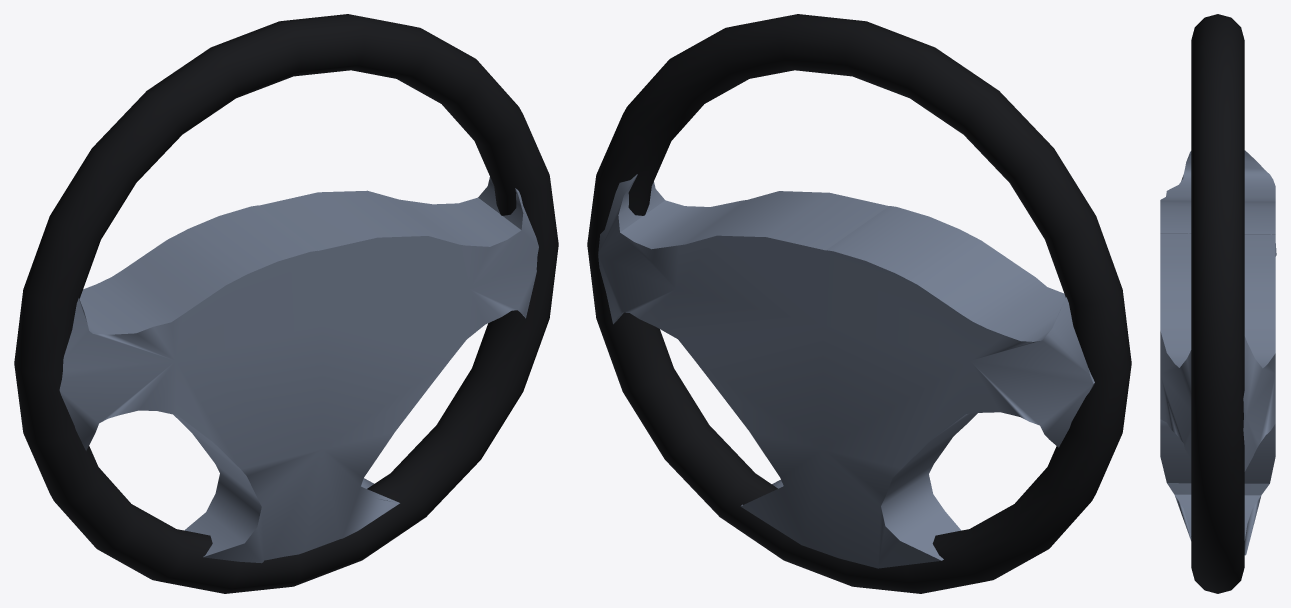
Rendered from black steering wheel.fbx.
3 views of the same model, side by side, from view 1: azimuth 30°, elevation 25°; view 2: azimuth 150°, elevation 25°; view 3: azimuth 270°, elevation 25° (orthographic). The views are drawn at different scales.
Parts seen in each view (by area): view 1: Steering wheel; view 2: Steering wheel; view 3: Steering wheel.
Boxes of the visible parts, left/top/right/bottom form: Steering wheel: left=14, top=14, right=558, bottom=593; Steering wheel: left=587, top=14, right=1131, bottom=593; Steering wheel: left=1160, top=14, right=1276, bottom=593.
Size of the model in its own units: 18.15 by 18.15 by 3.62.
